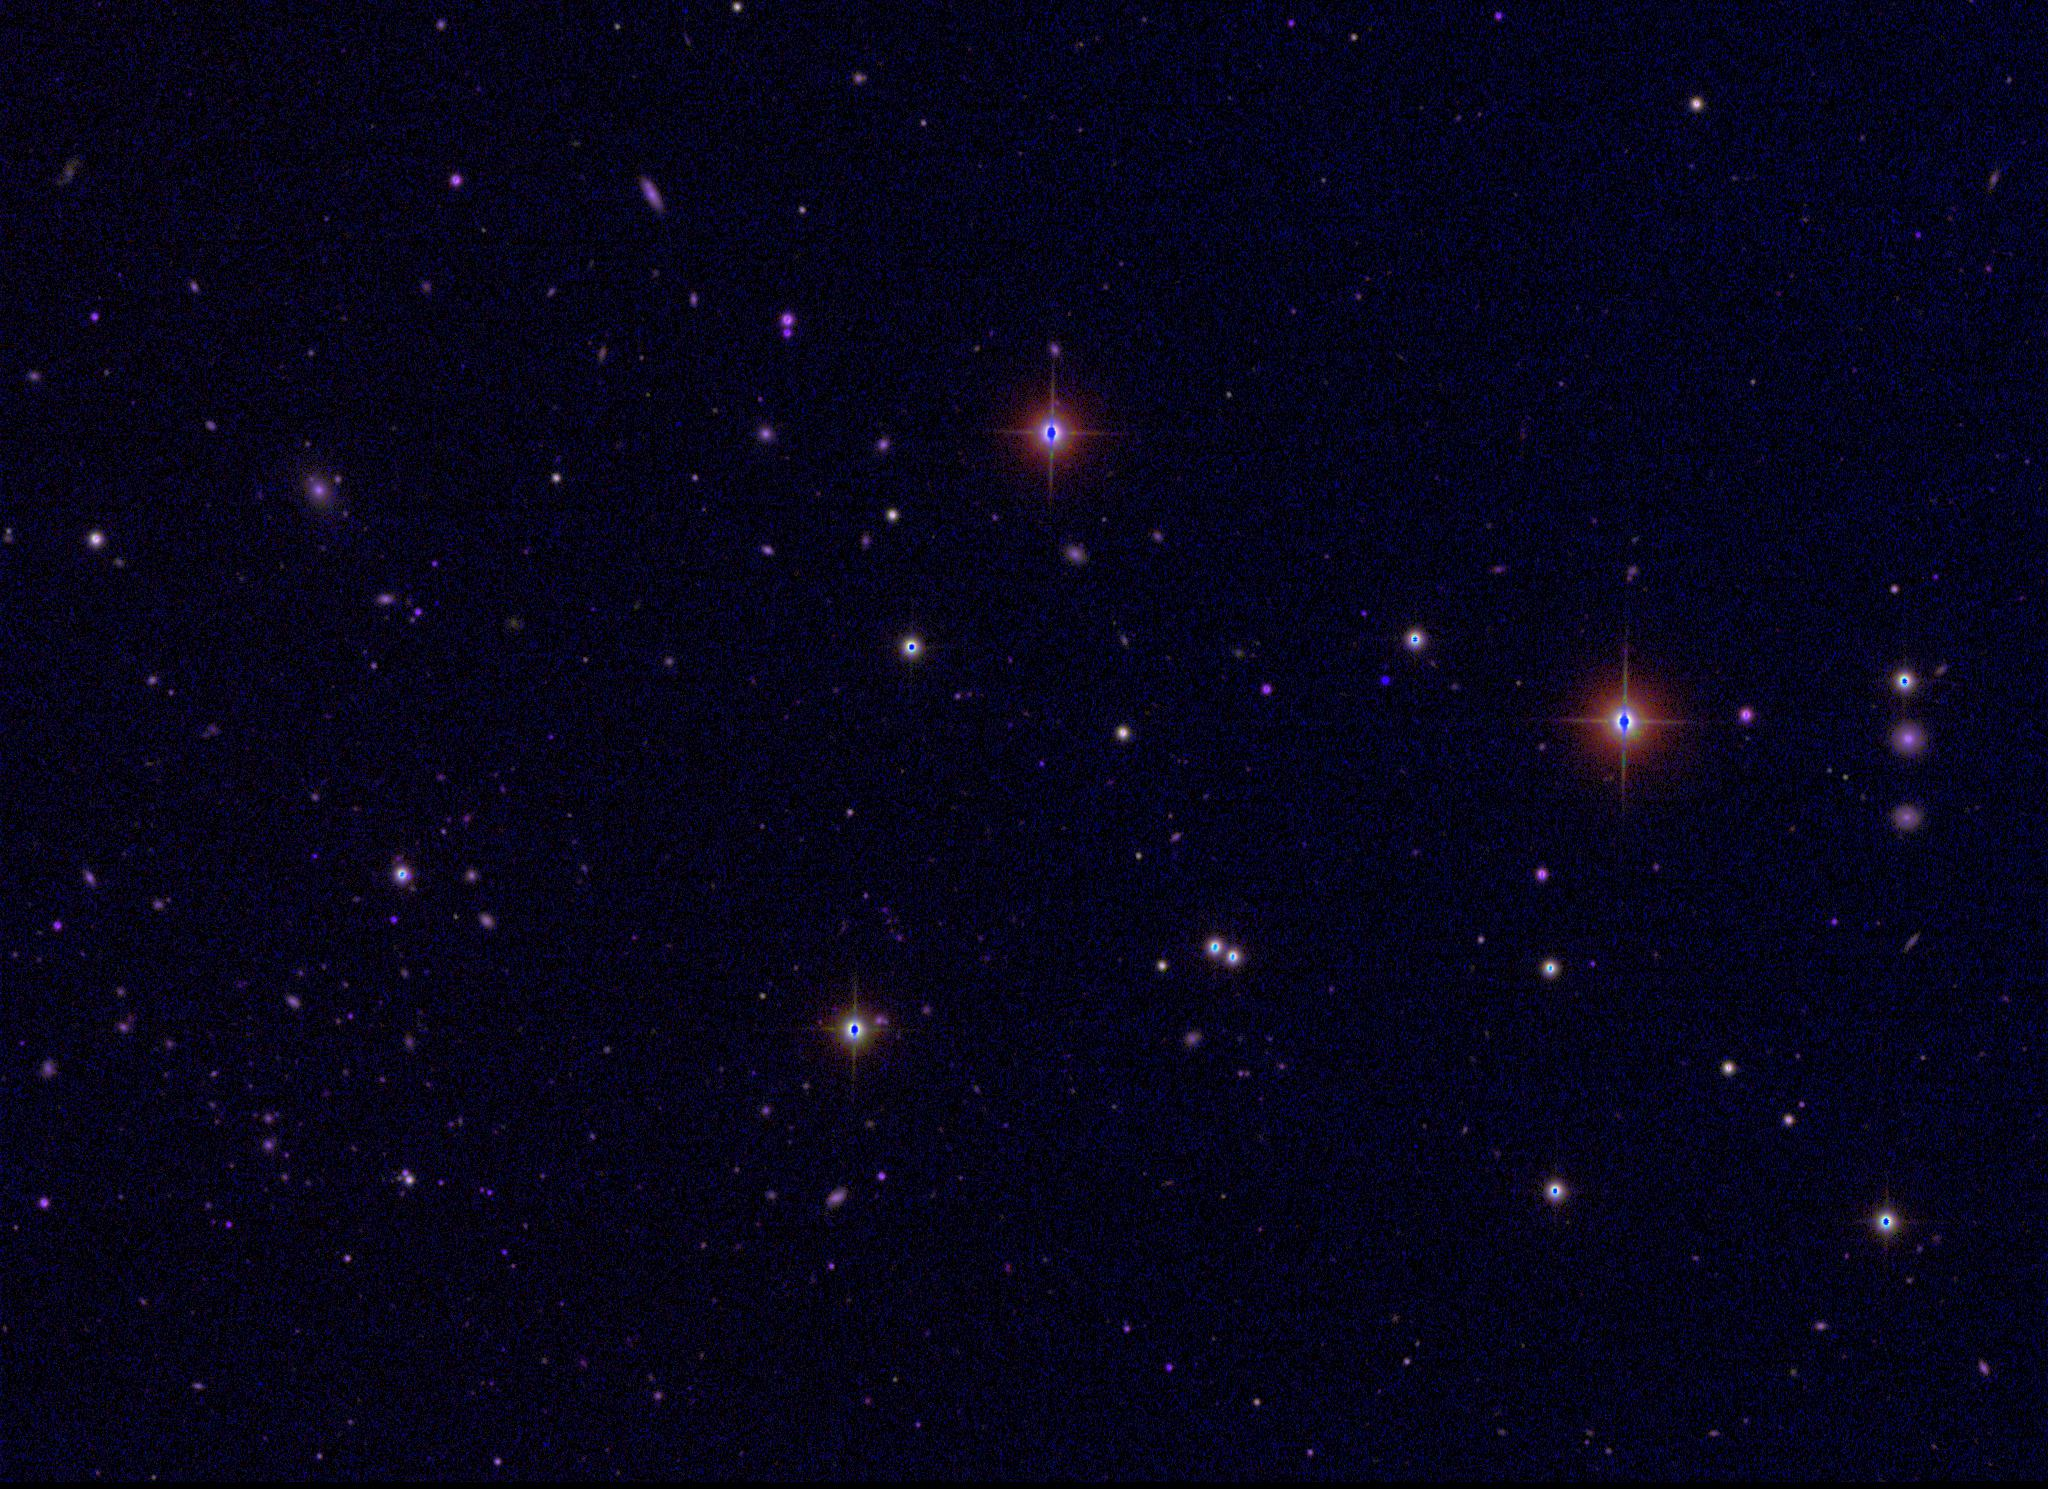L: (1379, 671, 1393, 686)
